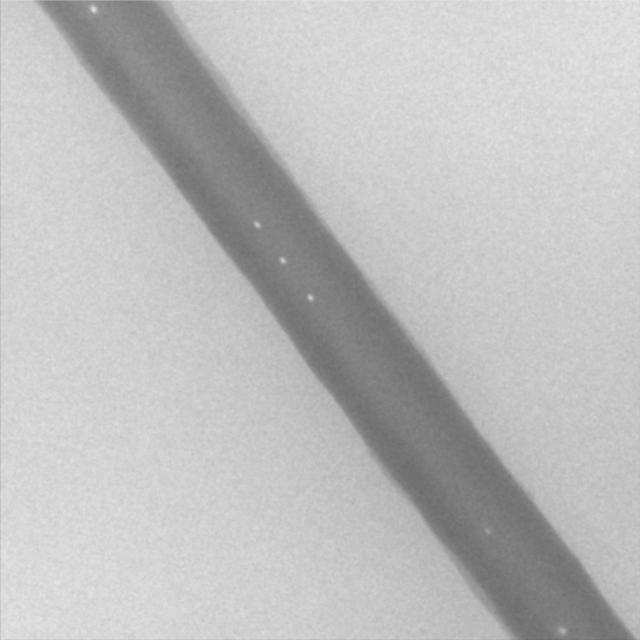air hole: (481, 524, 493, 539), (304, 290, 315, 304), (555, 625, 567, 637), (88, 2, 98, 16), (251, 219, 262, 230), (277, 254, 288, 265)
